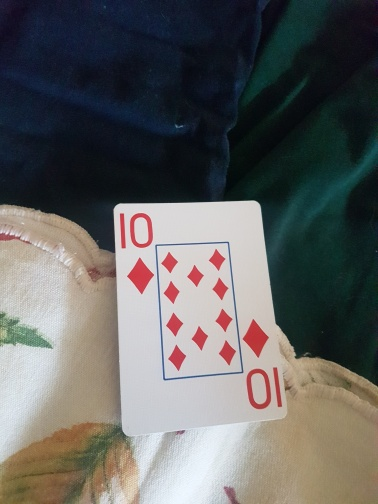ten: (110, 200, 291, 436)
